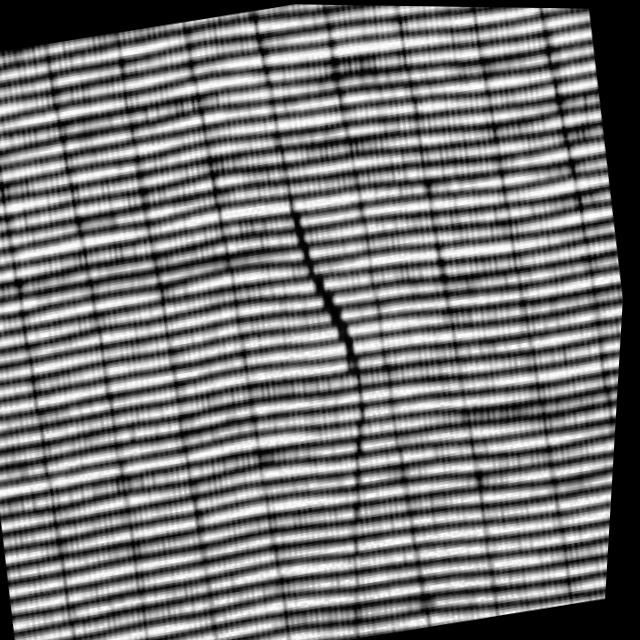Stitch: (232, 157, 440, 530)
